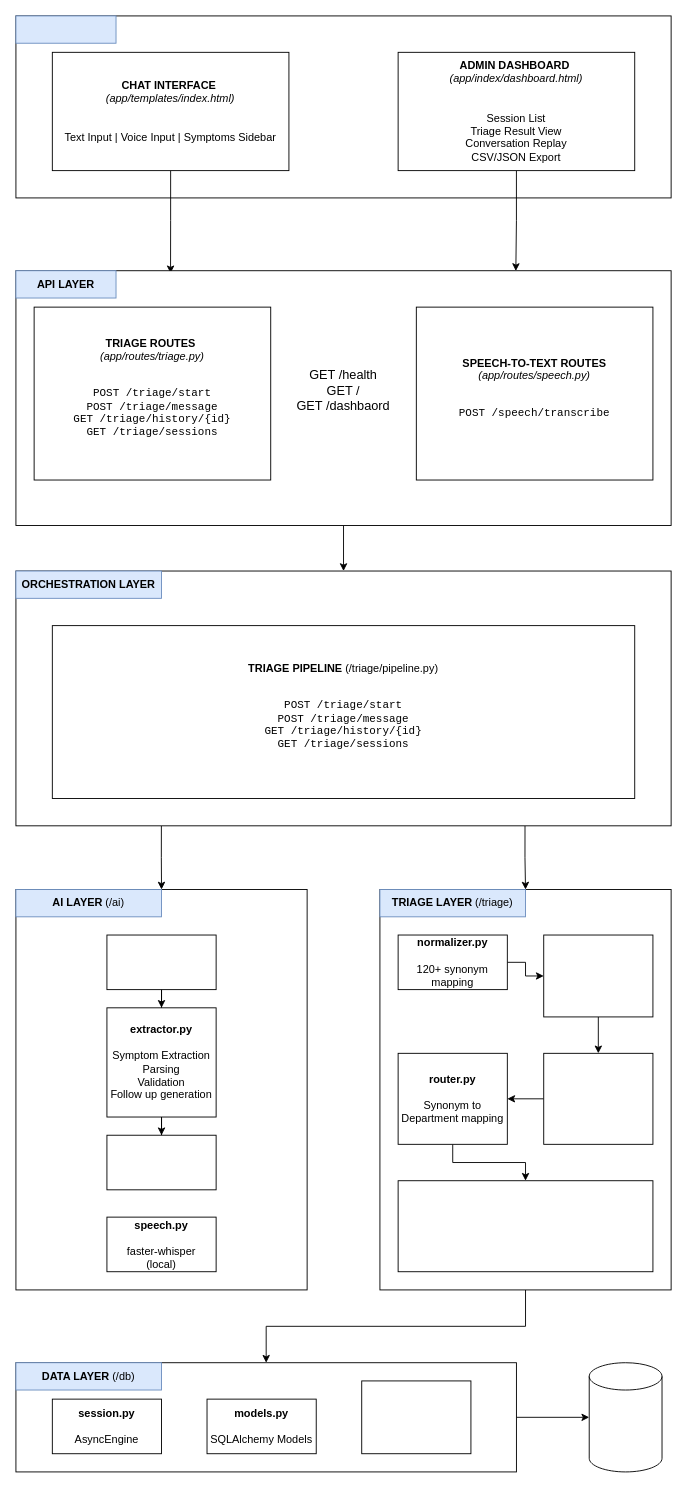
Image size: 687x1488. Some labels were removed from this diagram. The shapes that lost their labels are listed below. From the top down, each one's centre as x and y in pixels, then its label:
At [65,29]: "CLIENT LAYER".
At [161,962]: "client.py AsyncOpenAI".
At [598,975]: "rules.py Critical Symptoms detection".
At [598,1098]: "classifier.py Classifies symptoms to EMERGENCY, URGENT, ROUTINE".
At [161,1162]: "prompts.py Extraction Prompt Follow Up Prompt".
At [525,1226]: "decision.py Synonym to Department mapping".
At [416,1417]: "repository.py CRUD + history + listing".
At [625,1417]: "triage.db (SQLite)".
